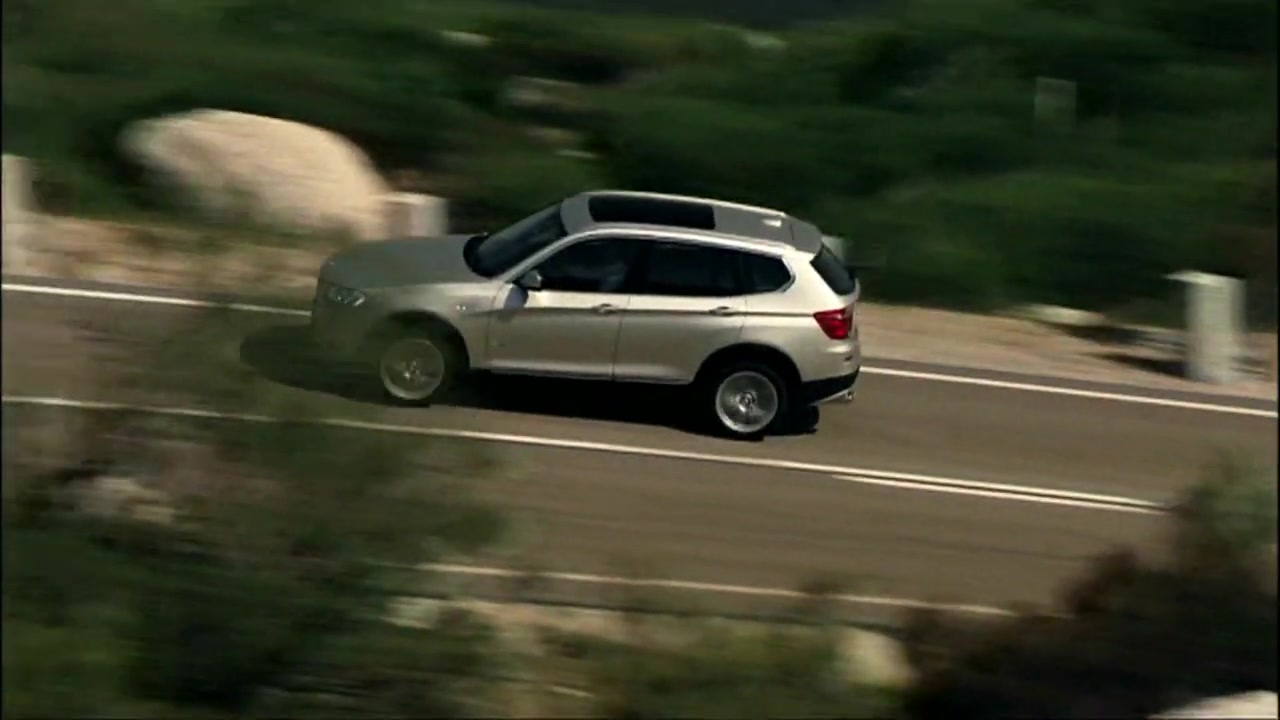car: (309, 186, 869, 439)
